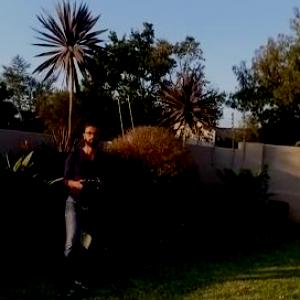follow: (55, 112, 116, 299)
